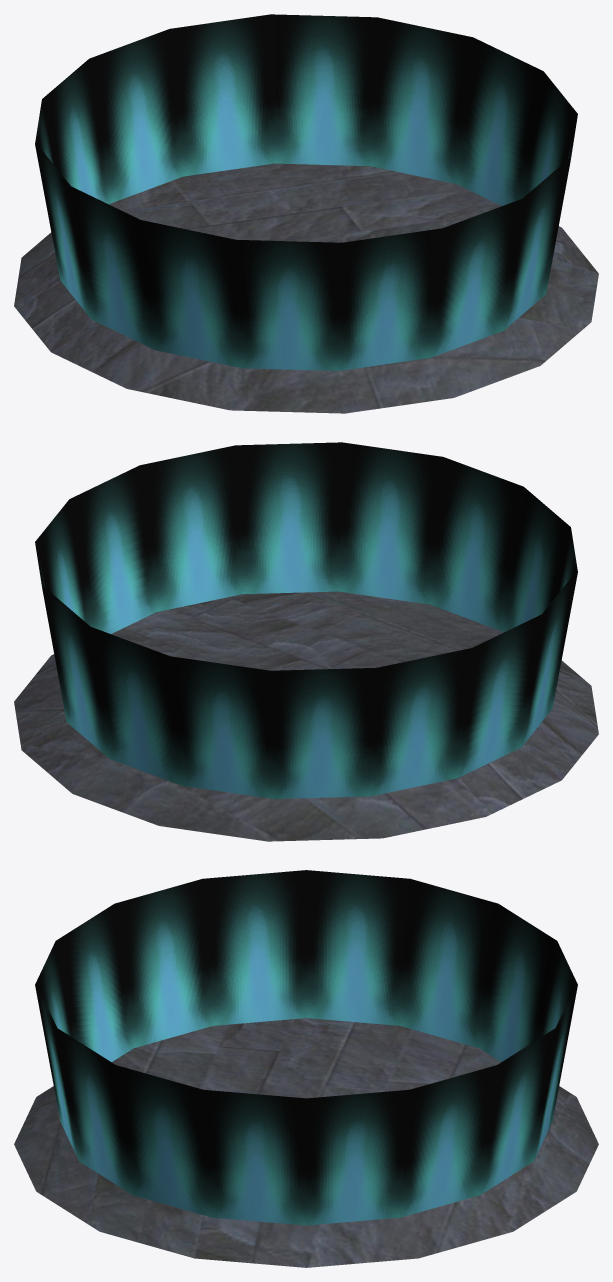
The model's file is ziel.fbx.
The picture shows the model from 3 angles, top to bottom: view 1: azimuth 30°, elevation 25°; view 2: azimuth 150°, elevation 25°; view 3: azimuth 270°, elevation 25°; orthographic projection.
Visible parts, largest first — view 1: Circle.001, Circle; view 2: Circle.001, Circle; view 3: Circle.001, Circle.
Part boxes in pixels (x1,y1,x2,y2): Circle.001: [35, 14, 577, 370]; Circle: [14, 163, 598, 413]; Circle.001: [35, 442, 577, 798]; Circle: [14, 591, 598, 841]; Circle.001: [35, 870, 577, 1225]; Circle: [14, 1018, 598, 1267].
Size of the model in its own units: 200 by 60.28 by 200.
